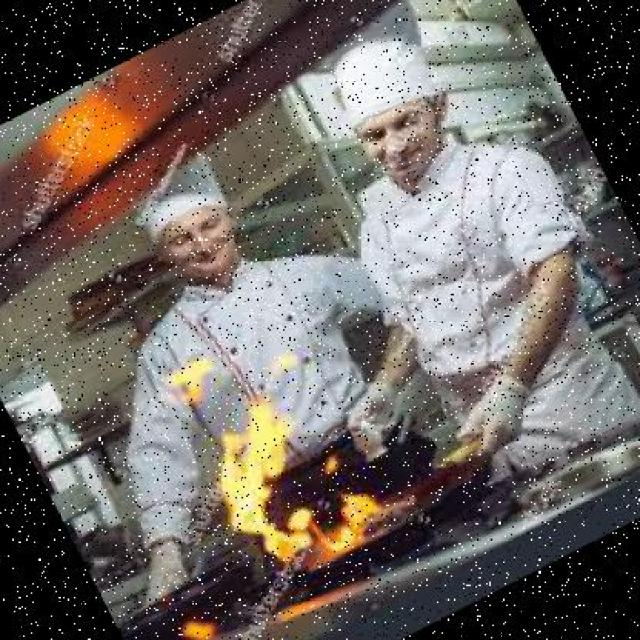fire: (166, 343, 459, 617)
